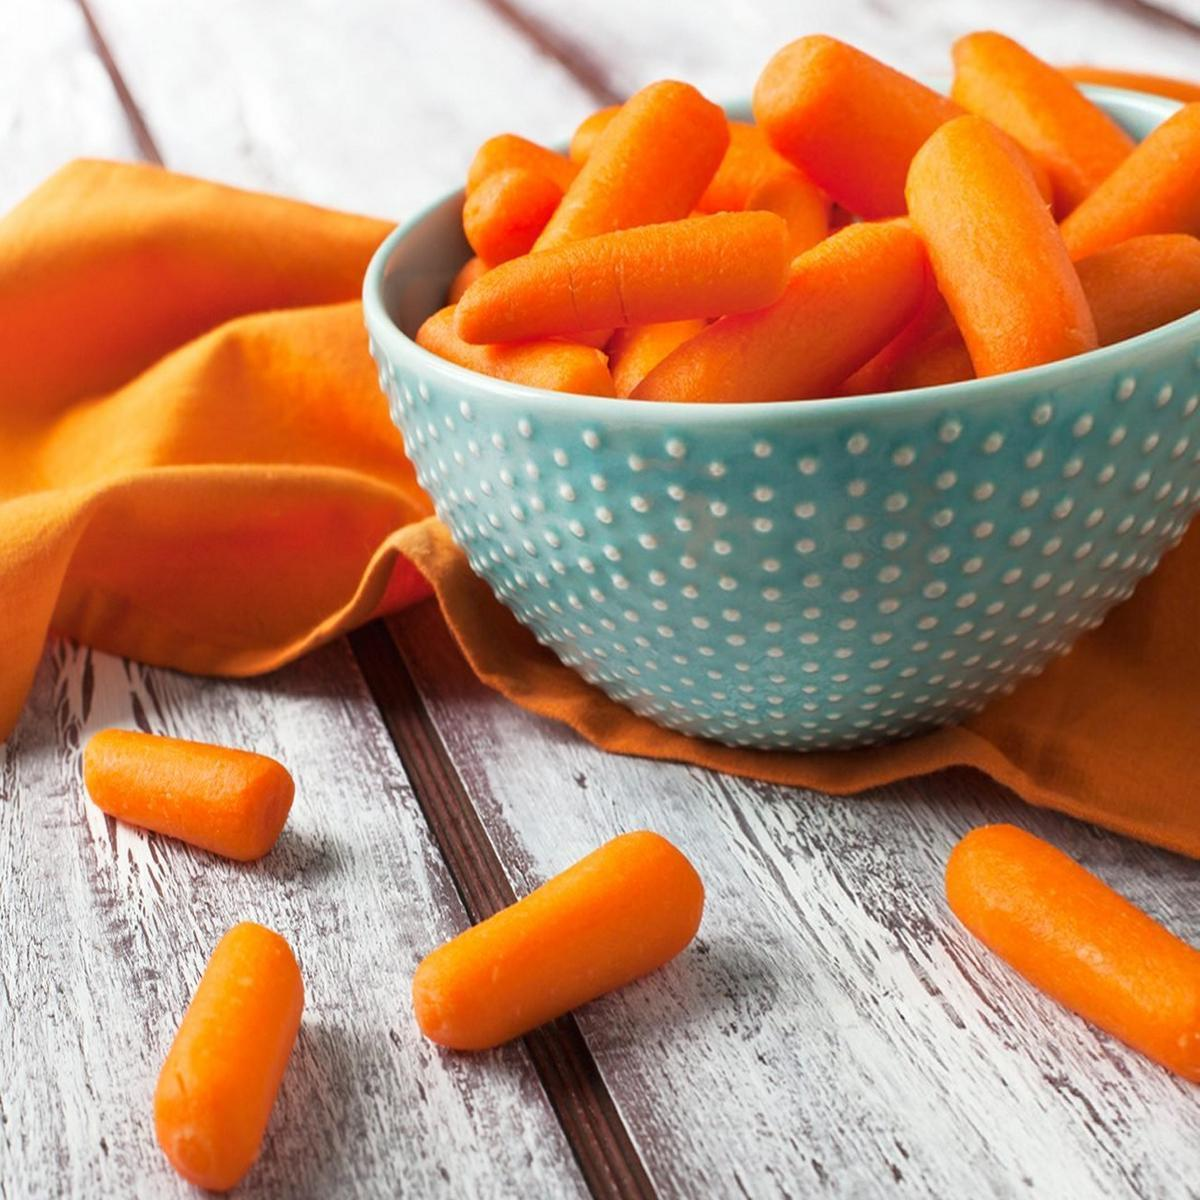carrot: (593, 82, 1158, 352), (415, 846, 705, 1095), (949, 830, 1200, 1090), (899, 124, 1074, 366), (493, 220, 854, 332), (71, 710, 324, 862), (162, 922, 284, 1182)
